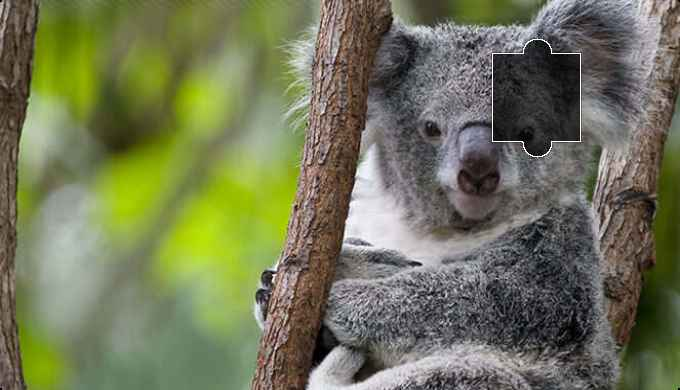gap: (490, 40, 581, 156)
